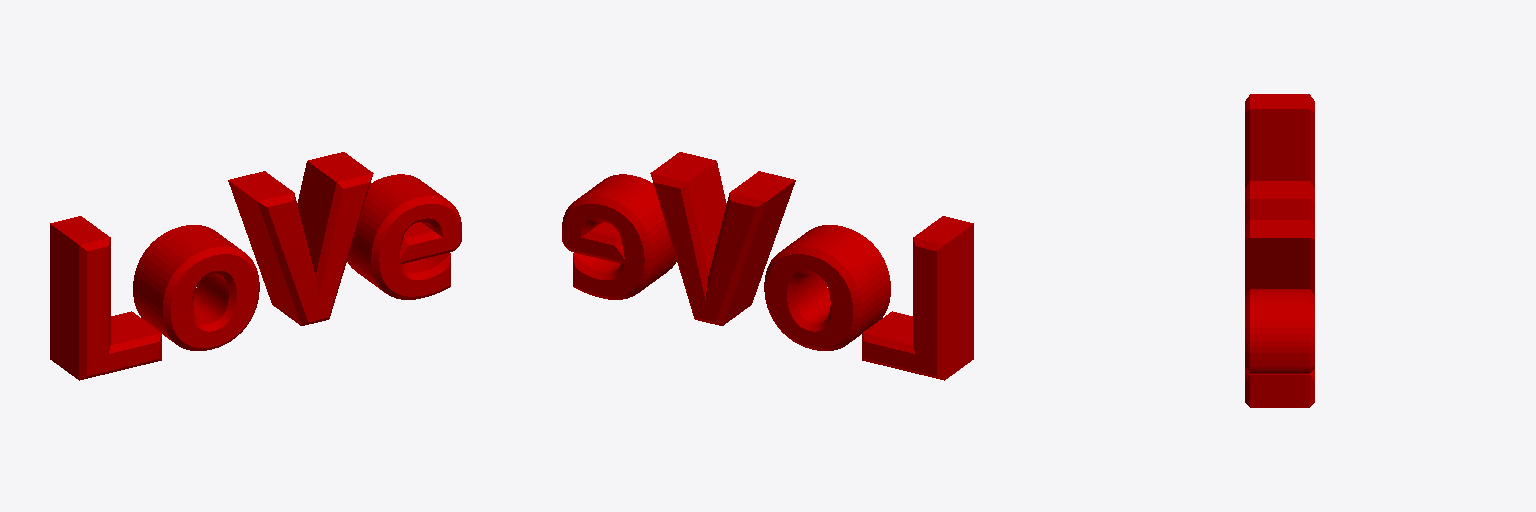
File: LoVe.obj
3 renders of one model, left to right at view 1: azimuth 30°, elevation 25°; view 2: azimuth 150°, elevation 25°; view 3: azimuth 270°, elevation 25°, orthographic.
Parts seen in each view (by area): view 1: LoVe; view 2: LoVe; view 3: LoVe.
Boxes of the visible parts, x1=… form: LoVe: x1=50, y1=152, x2=461, y2=380; LoVe: x1=562, y1=152, x2=973, y2=380; LoVe: x1=1245, y1=94, x2=1314, y2=407.
Size of the model in its own units: 7.48 by 2.55 by 1.2.